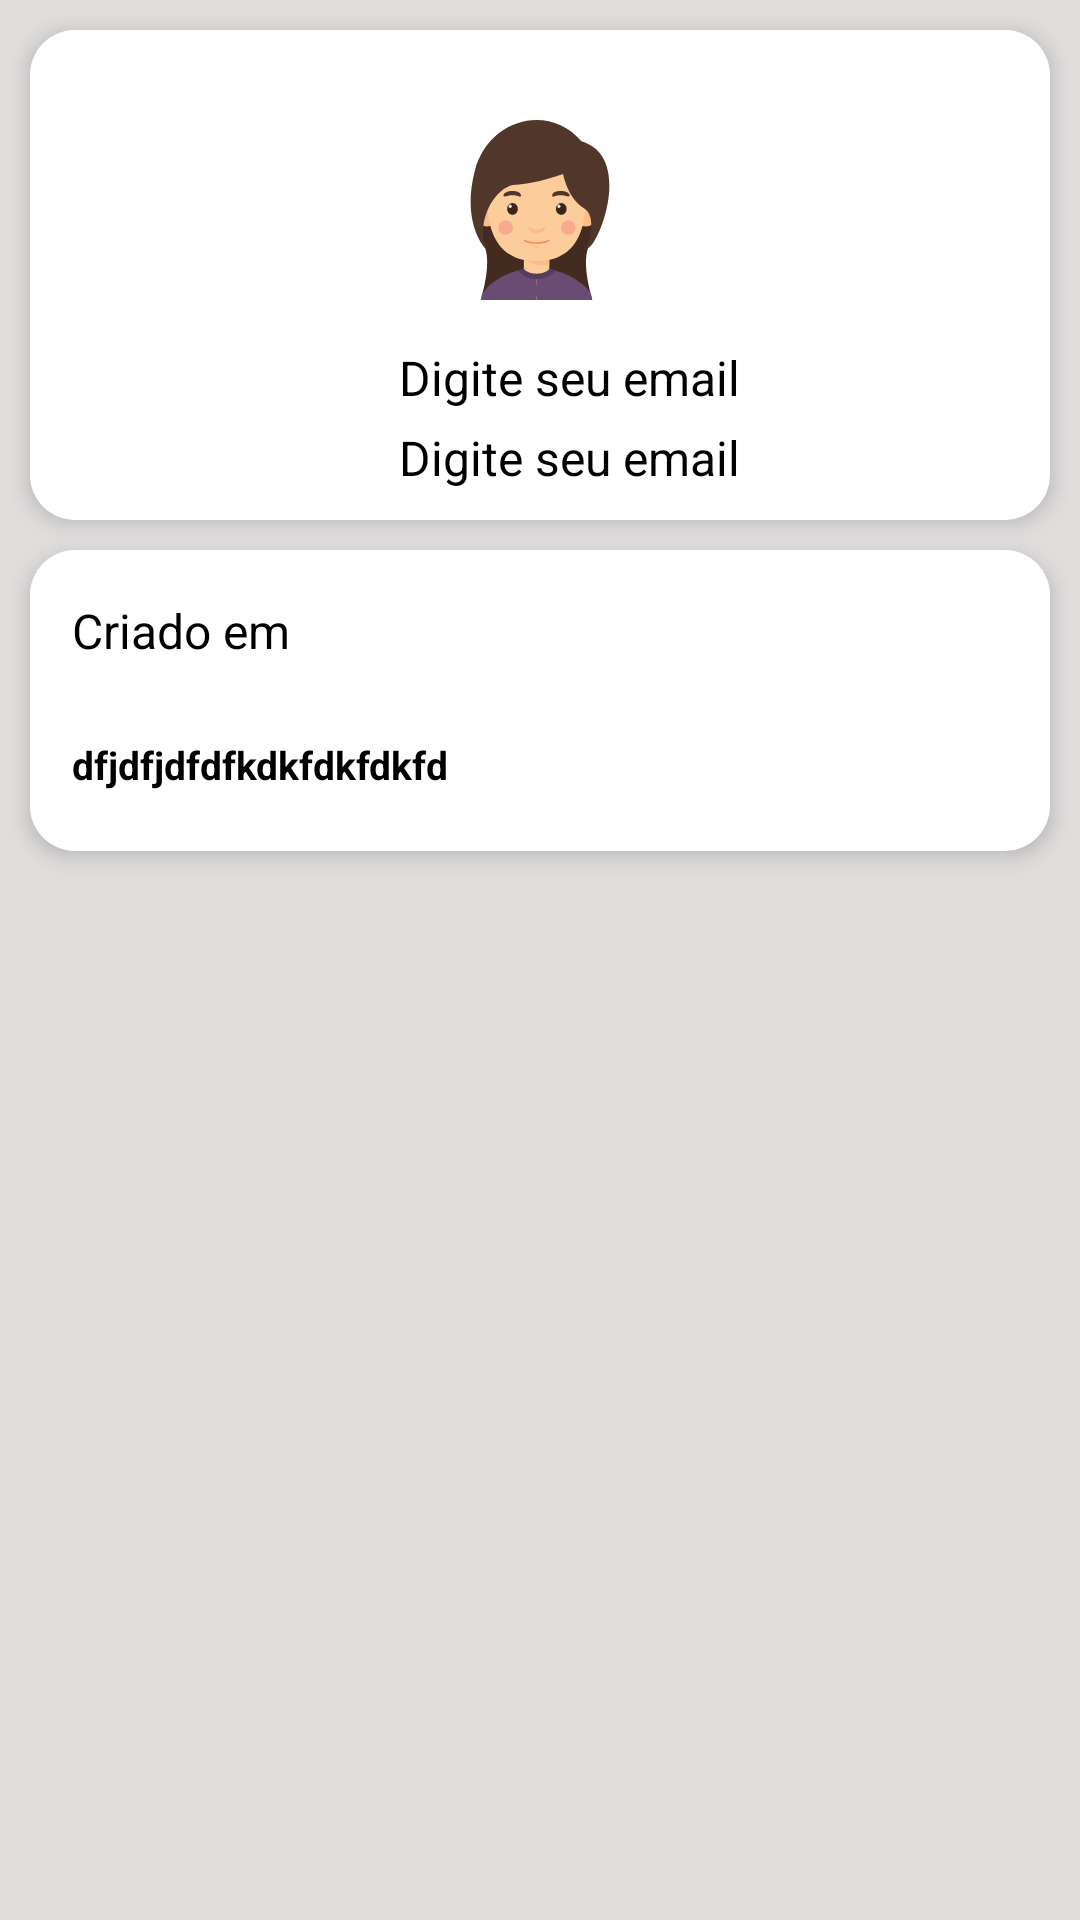

Icon bounding boxes for this 1080px x 1920px phone screenshot, format [x1, y1, x2, y2]:
girl: [470, 120, 610, 300]
